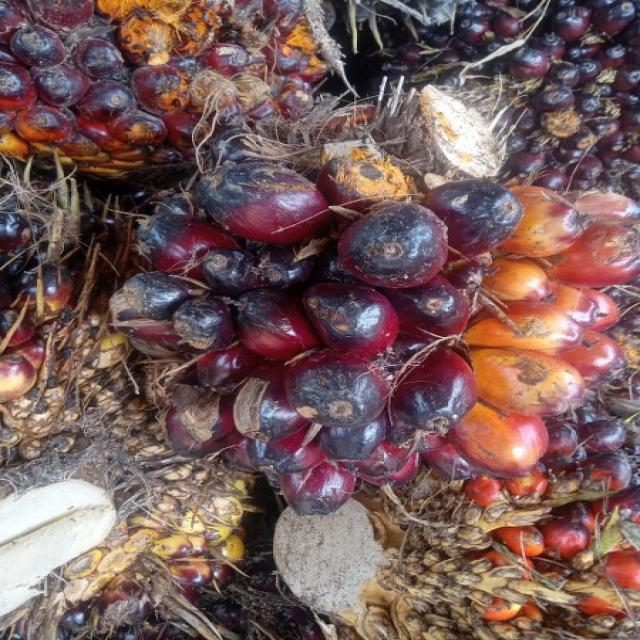fraksi 1: (87, 94, 640, 604)
